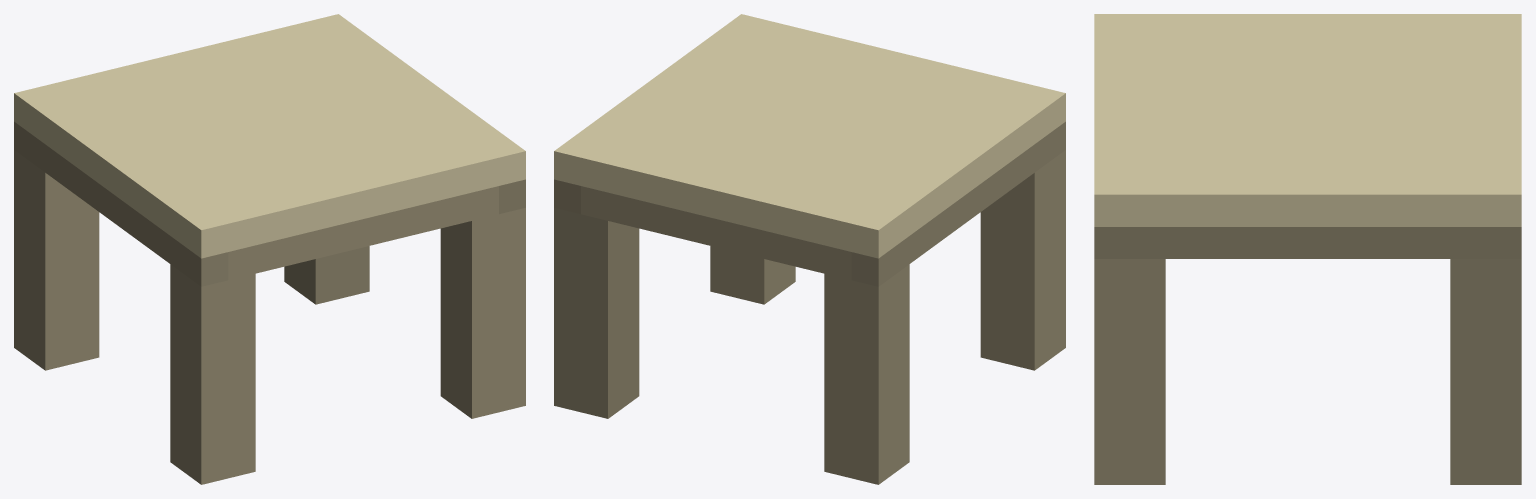
The model's file is mesa_cartografia_desgastada_01.glb.
3 renders of one model, left to right at view 1: azimuth 30°, elevation 25°; view 2: azimuth 150°, elevation 25°; view 3: azimuth 270°, elevation 25°, orthographic. The views are drawn at different scales.
Parts seen in each view (by area): view 1: mesa_cartografia_desgastada; view 2: mesa_cartografia_desgastada; view 3: mesa_cartografia_desgastada.
Part boxes in pixels (x1=…): mesa_cartografia_desgastada: x1=14, y1=14, x2=525, y2=484; mesa_cartografia_desgastada: x1=554, y1=14, x2=1065, y2=484; mesa_cartografia_desgastada: x1=1094, y1=14, x2=1521, y2=484.
Bounding box in the file's own units: 1 × 0.75 × 1.
